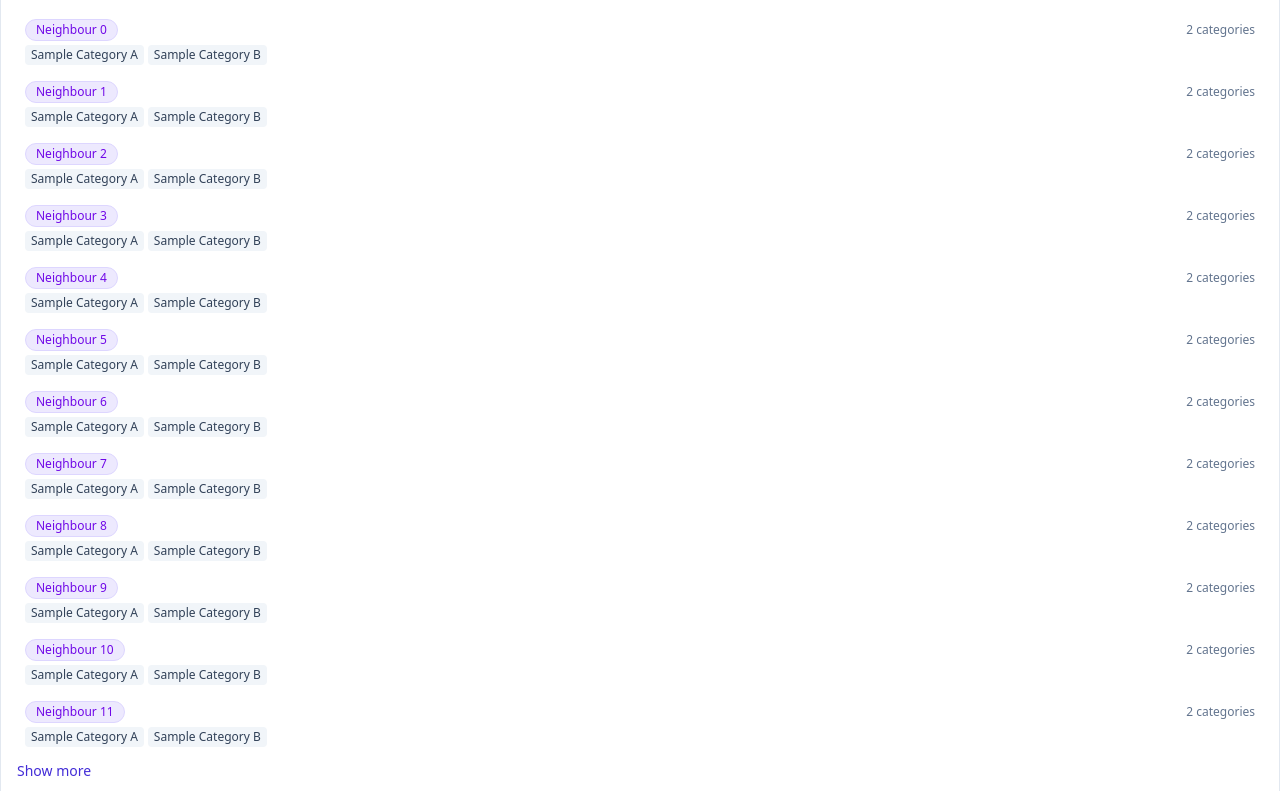
it: SharedCategoriesPanel (Feature 085) › show more › is hidden once the ceiling is reached
(page scrolled)
Click the button "Show more" at (54,771), box [17,761,91,781]
(page scrolled)
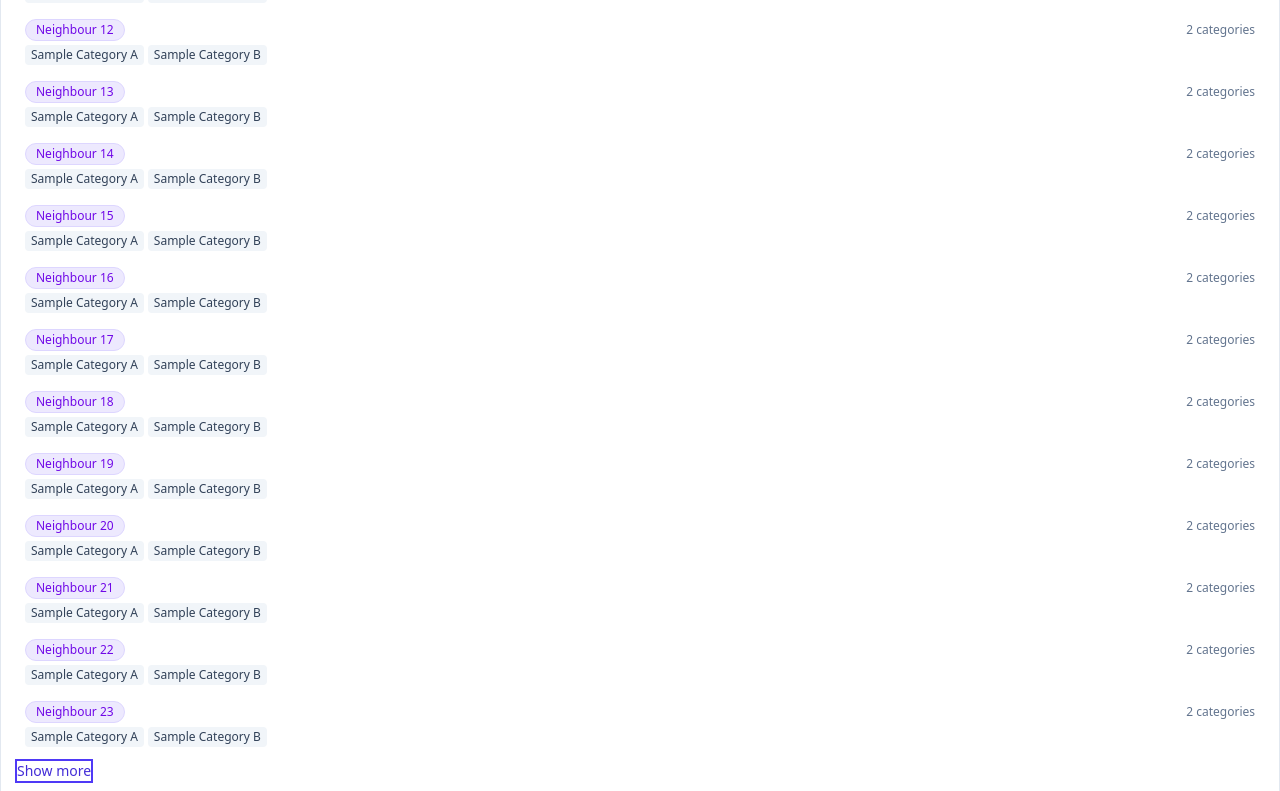
Click the button "Show more" at (54,771), box [17,761,91,781]
(page scrolled)
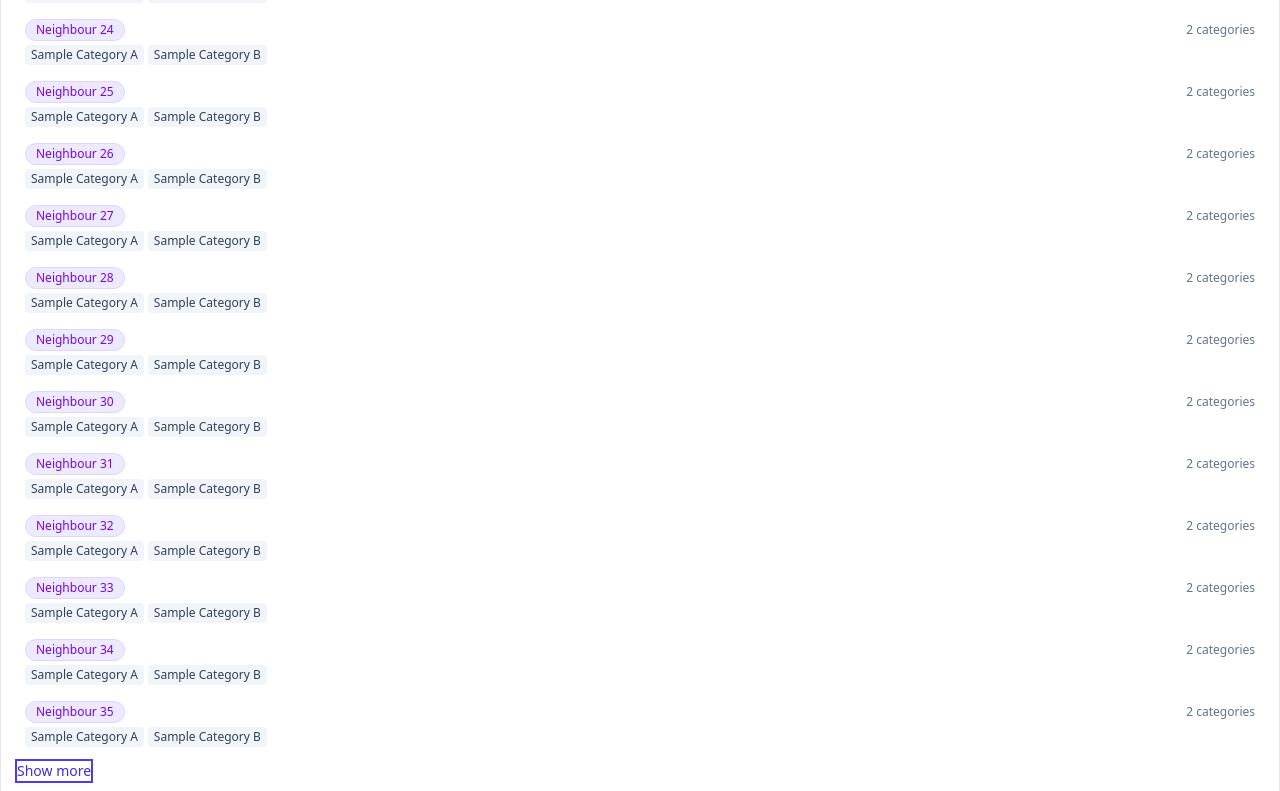
Click the button "Show more" at (54,771), box [17,761,91,781]
(page scrolled)
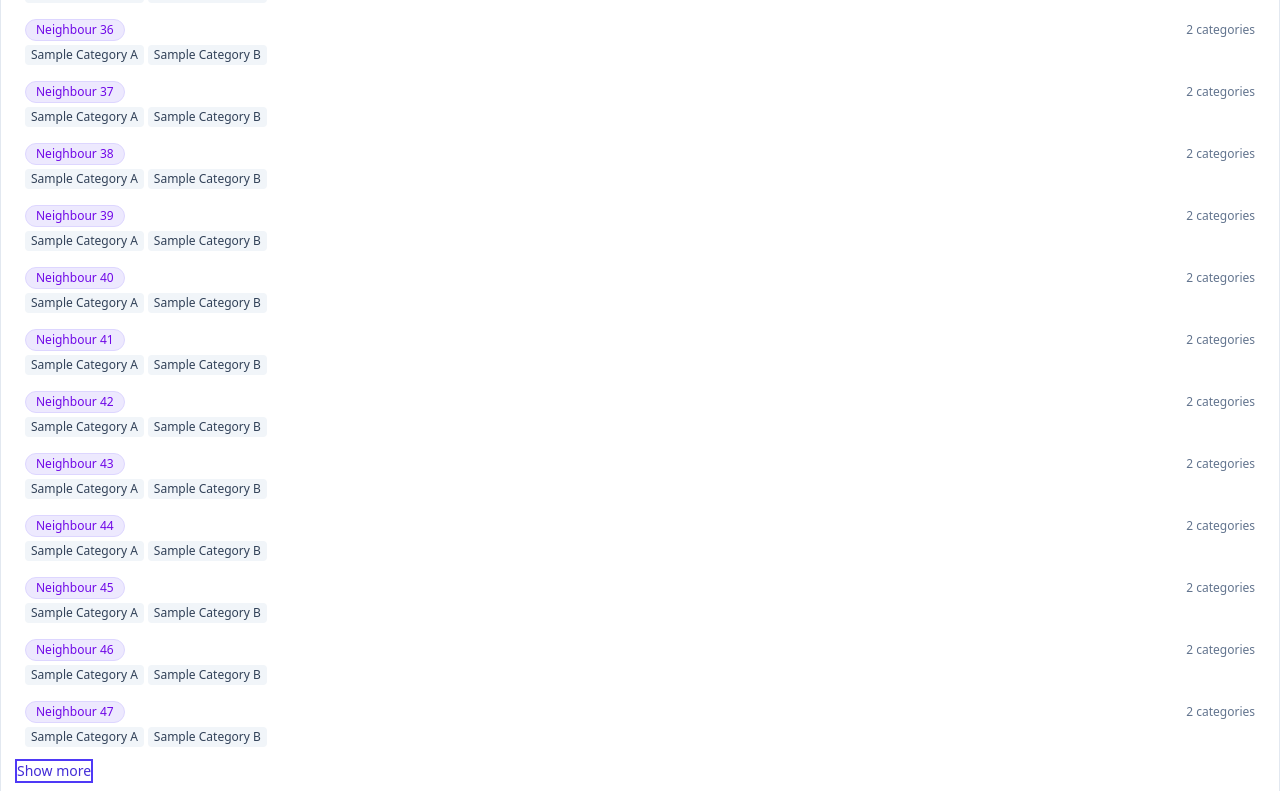
Click the button "Show more" at (54,771), box [17,761,91,781]
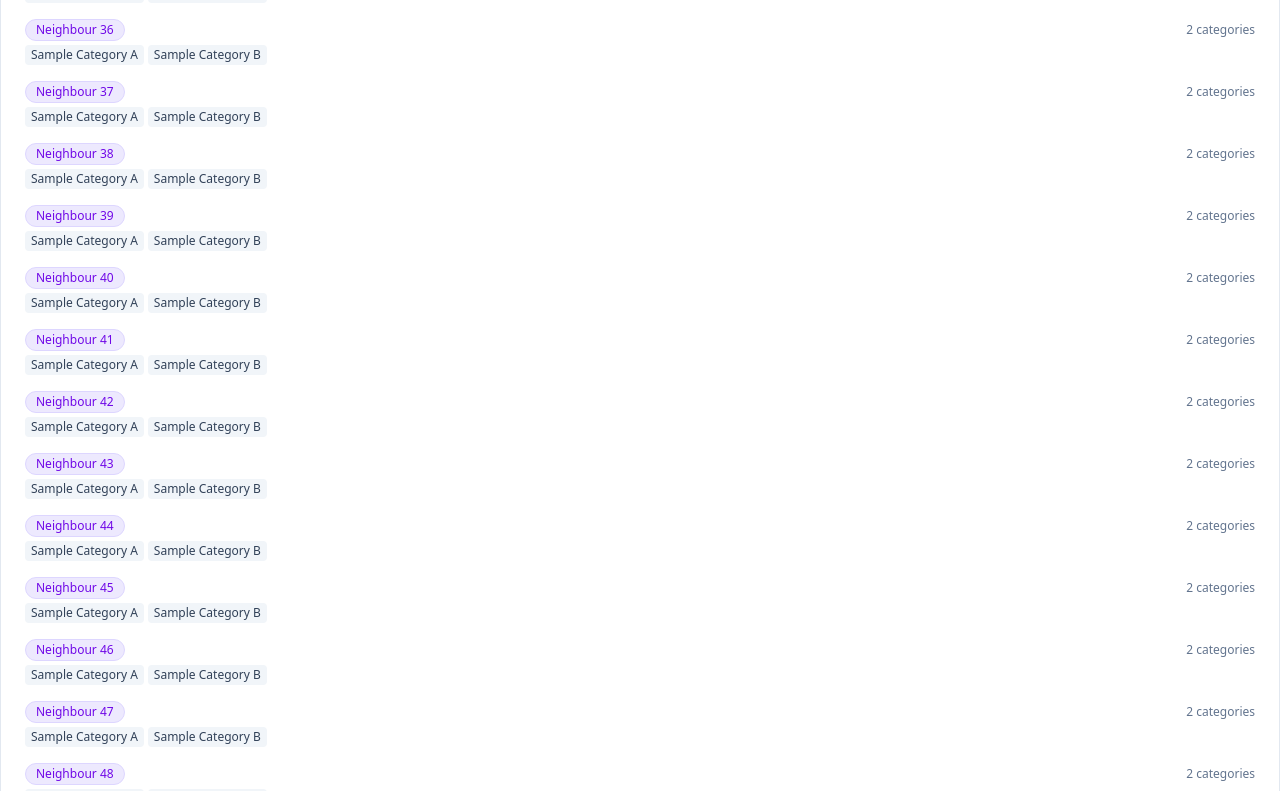
Check: the button "Show more" is gone
